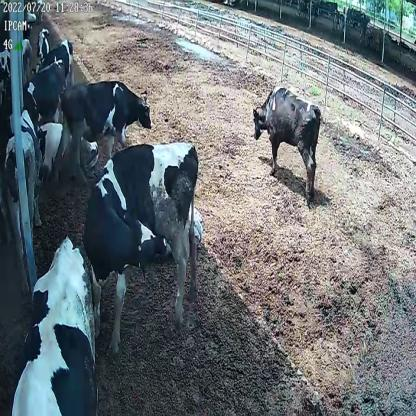cow: (84, 140, 200, 329), (60, 78, 156, 178), (253, 83, 324, 202), (36, 28, 50, 63)
